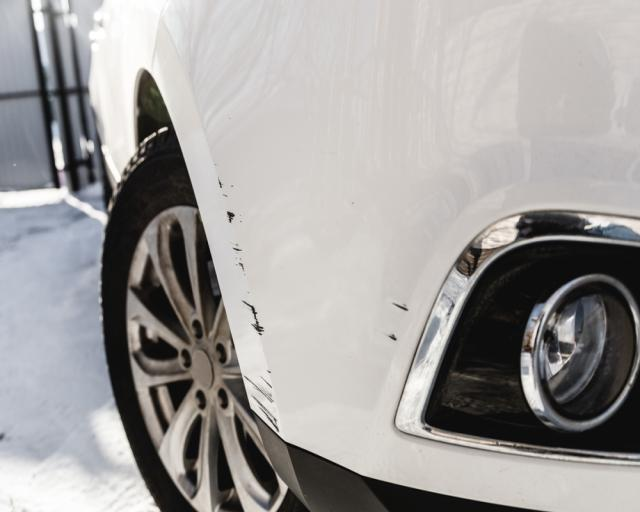scratch: (217, 177, 280, 431), (376, 294, 414, 349)
